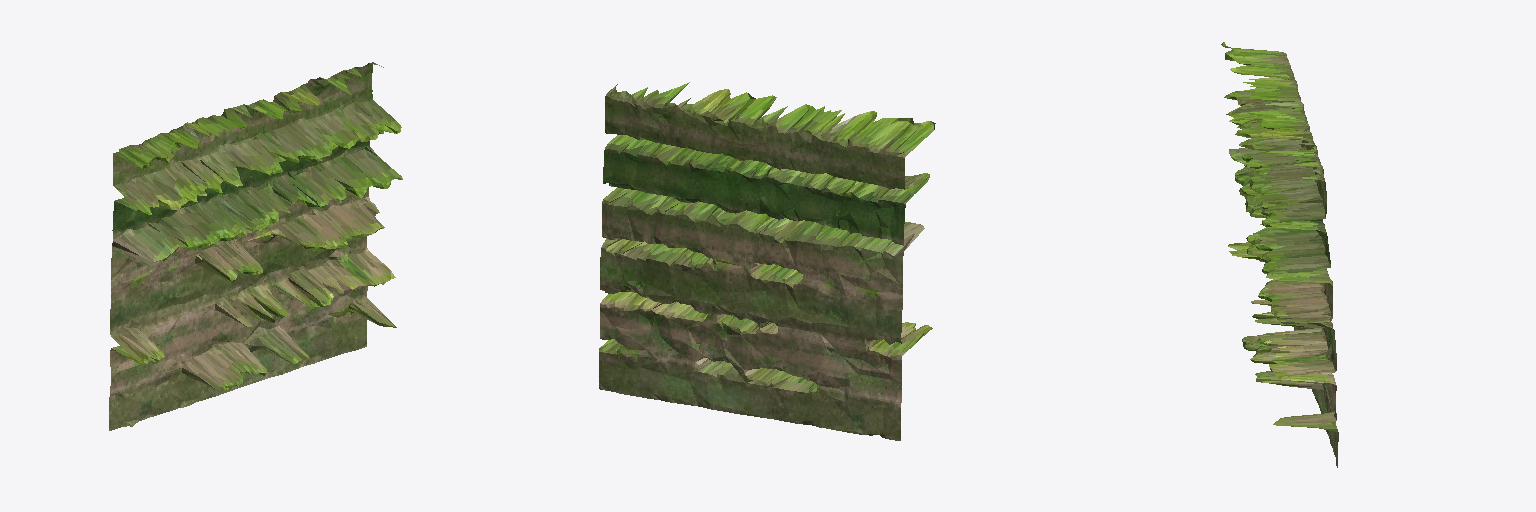
The picture shows the model from 3 angles: view 1: azimuth 30°, elevation 25°; view 2: azimuth 150°, elevation 25°; view 3: azimuth 270°, elevation 25°; orthographic projection.
Parts seen in each view (by area): view 1: grp1; view 2: grp1; view 3: grp1.
Part boxes in pixels (x1,y1,x2,y2): grp1: (109,62,402,430); grp1: (599,82,935,440); grp1: (1221,42,1338,467).
Bounding box in the file's own units: 10 × 10 × 3.64.
Materials: 1 (1 with a texture image).